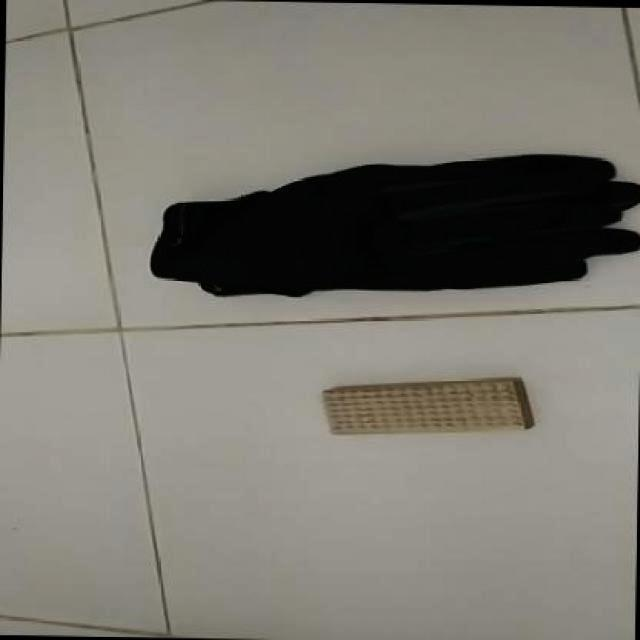Guantes: (149, 150, 638, 299)
